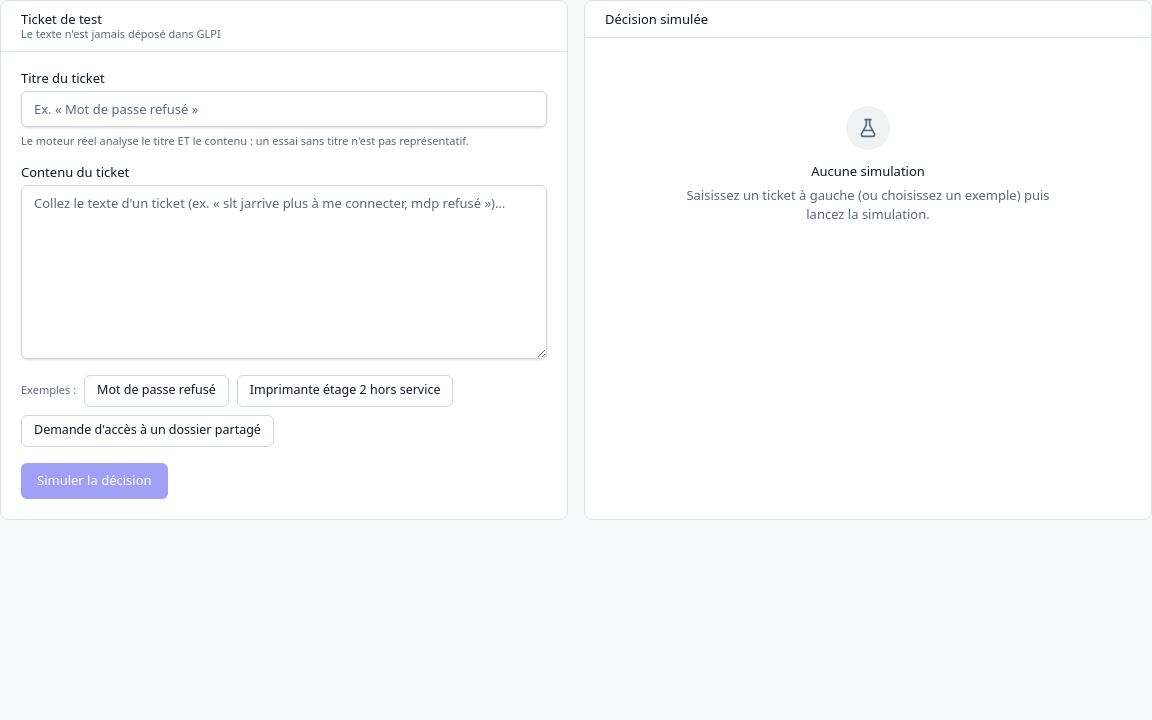
Test: Sandbox › un exemple pré-rempli permet de démarrer sans rien taper
The width and height of the screenshot is (1152, 720).
# Bouton d'exemple (le titre est le libellé) — à ne pas confondre avec le champ.
What coordinates should you click on to do the following:
click the button "Mot de passe refusé"
I would click on:
 (156, 390)
Its box is [84,374,229,406].
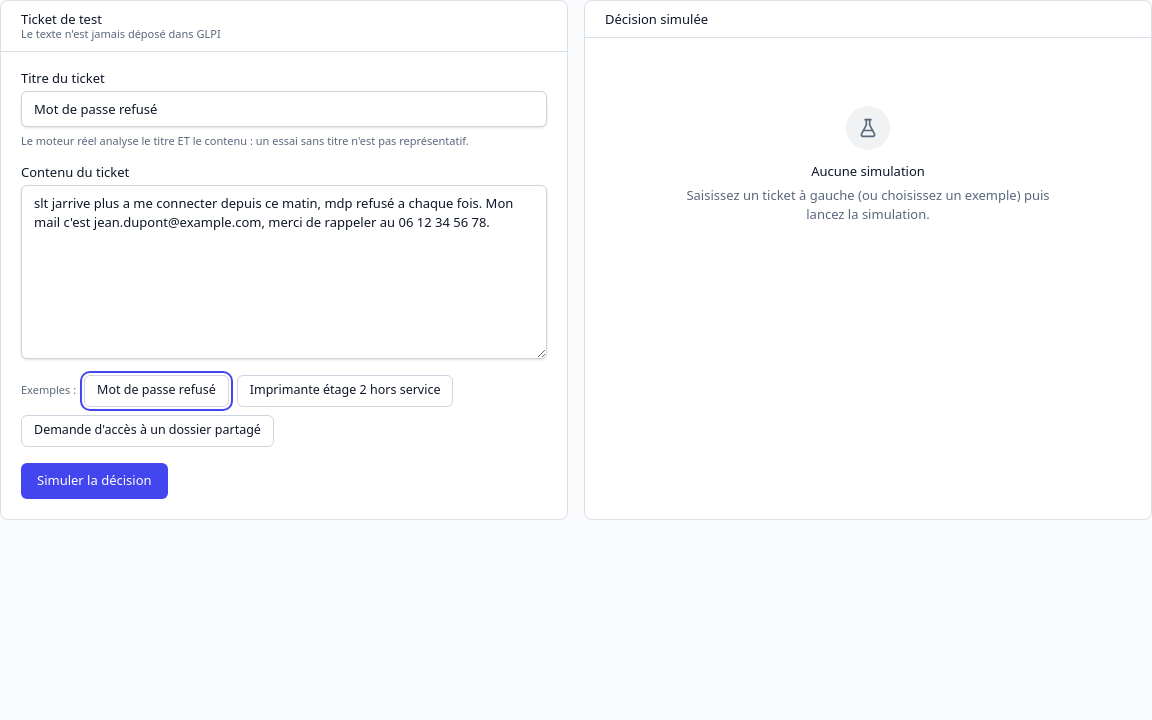
Result: the field labelled "Titre du ticket" holds "Mot de passe refusé" at [21,91,547,127]
Result: the button "Simuler la décision" is enabled at [21,462,168,498]
